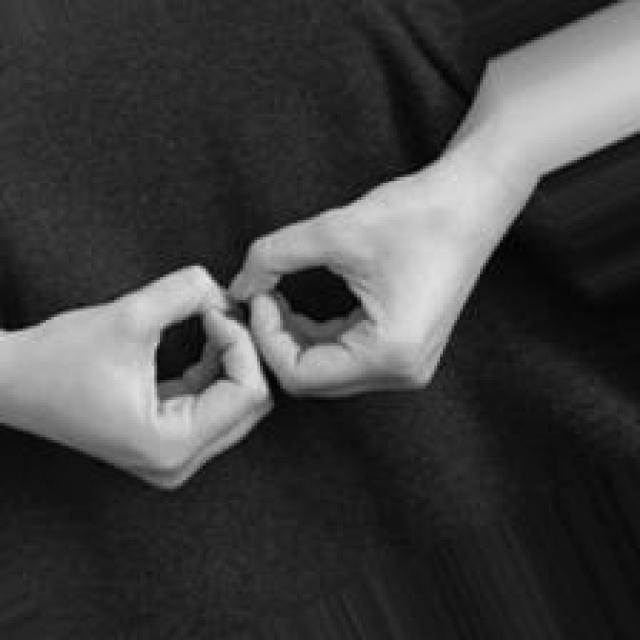B: (35, 176, 483, 494)
